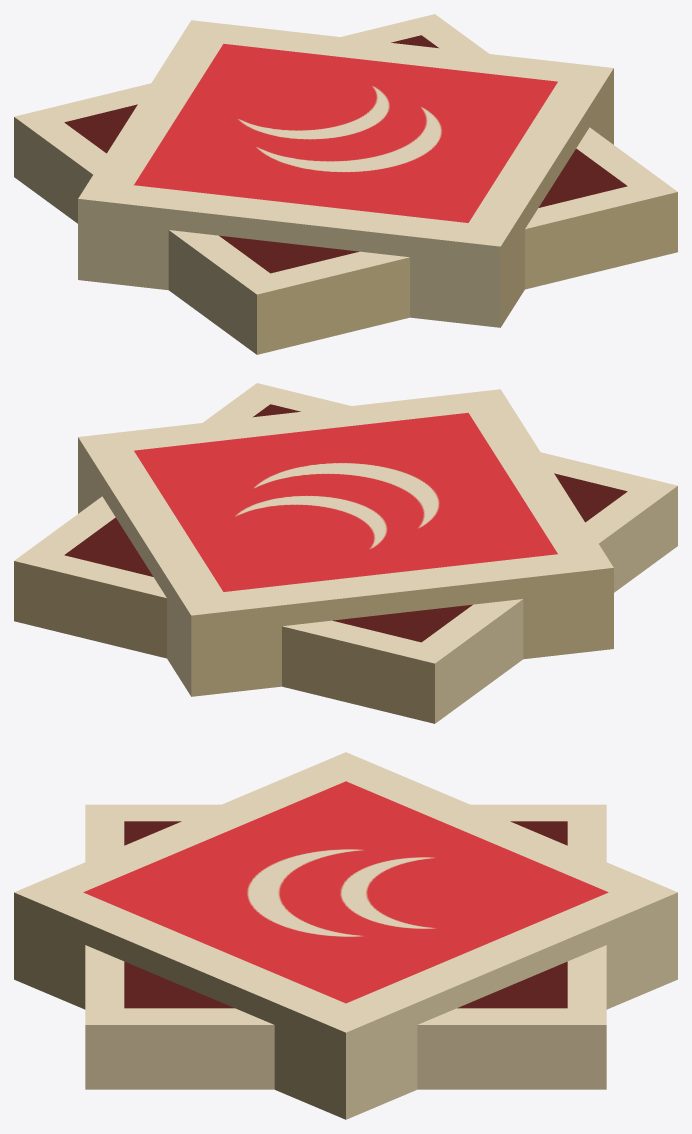
File: pedestal01.fbx
3 renders of one model, top to bottom at view 1: azimuth 30°, elevation 25°; view 2: azimuth 150°, elevation 25°; view 3: azimuth 270°, elevation 25°, orthographic. The views are drawn at different scales.
Parts seen in each view (by area): view 1: pedestal01; view 2: pedestal01; view 3: pedestal01.
Part boxes in pixels (<box>): pedestal01: <box>14,14,677,354</box>; pedestal01: <box>14,383,677,723</box>; pedestal01: <box>14,752,677,1119</box>.
Size of the model in its own units: 3.07 by 0.4453 by 3.07.
